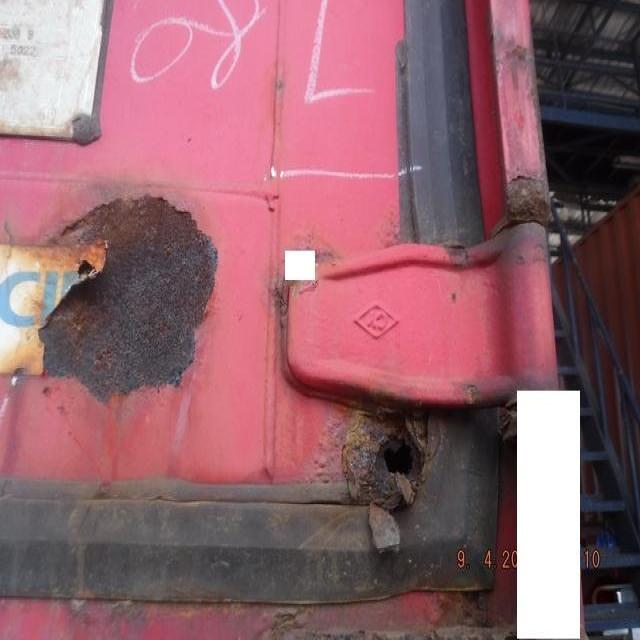rust: (32, 185, 222, 404), (436, 587, 497, 639), (506, 176, 555, 229)
